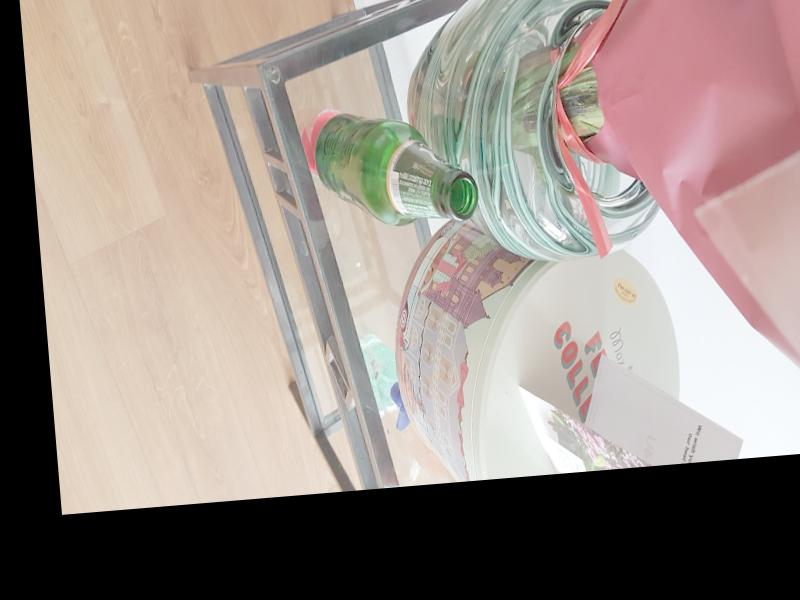Beer: (311, 102, 479, 233)
